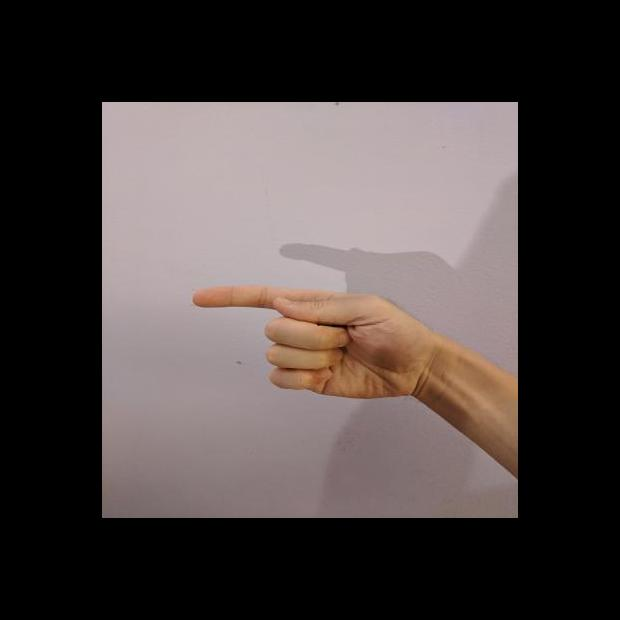F: (187, 283, 443, 403)
